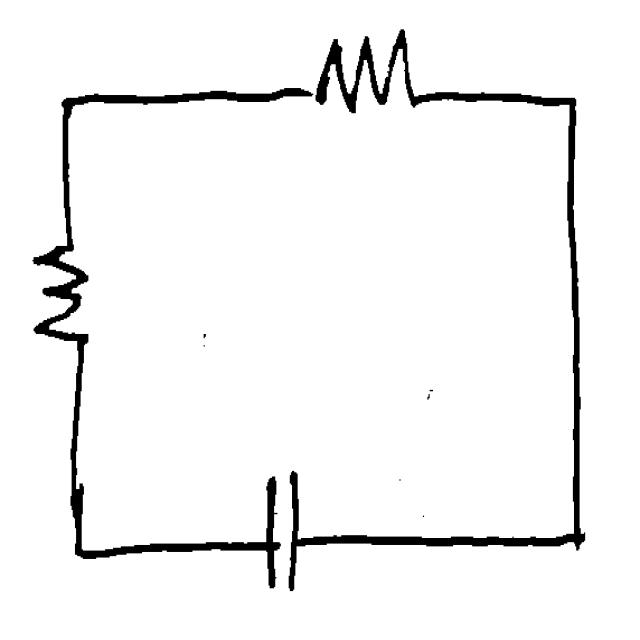resistor: (304, 22, 433, 124)
